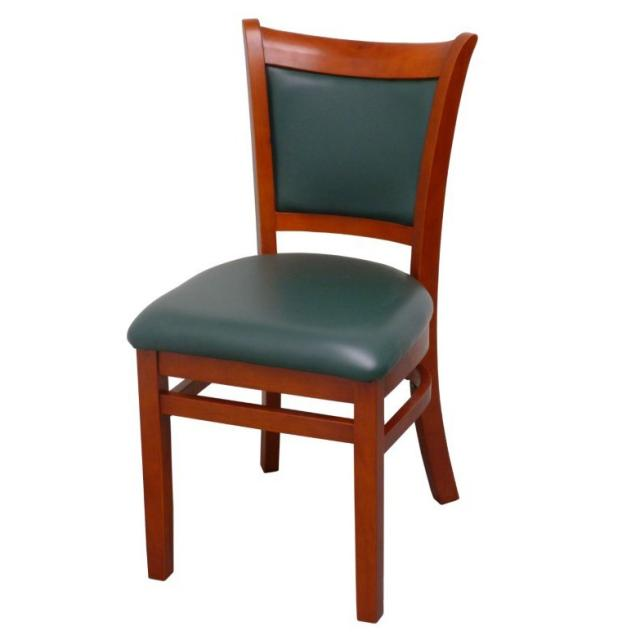bottle: (122, 19, 483, 615)
